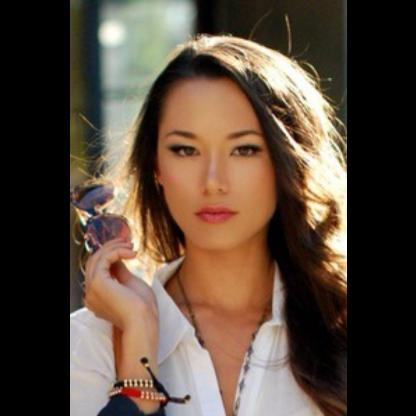Female: (155, 79, 277, 249)
